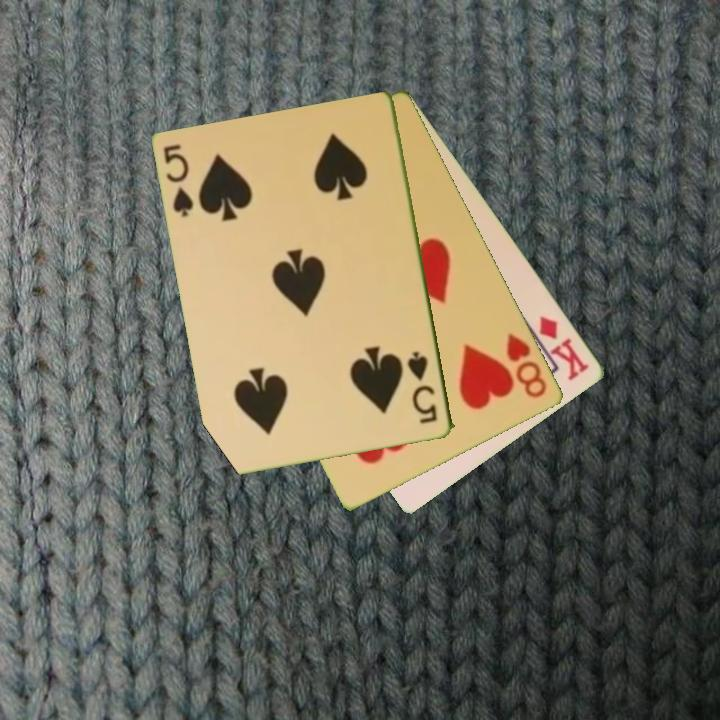5s: (160, 141, 197, 221), (404, 348, 441, 427)
8h: (503, 330, 551, 401)
Kd: (536, 312, 593, 383)
